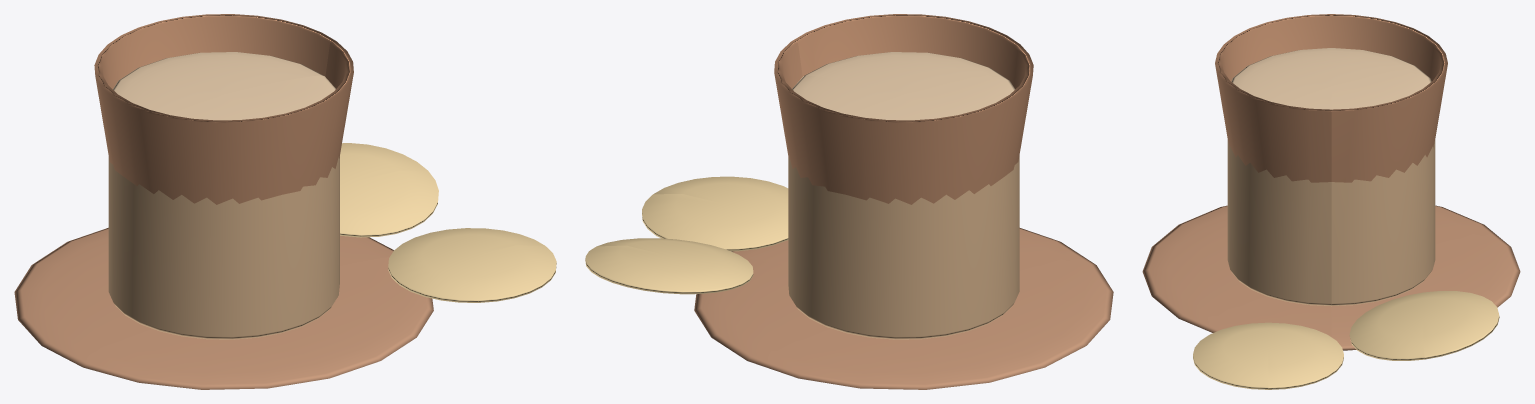
The model's file is masala-chai.glb.
3 views of the same model, side by side, from view 1: azimuth 30°, elevation 25°; view 2: azimuth 150°, elevation 25°; view 3: azimuth 270°, elevation 25° (orthographic). The views are drawn at different scales.
Parts seen in each view (by area): view 1: masala-chai; view 2: masala-chai; view 3: masala-chai.
Part boxes in pixels (left/top/right/bottom): masala-chai: left=14, top=14, right=556, bottom=389; masala-chai: left=585, top=14, right=1113, bottom=389; masala-chai: left=1142, top=14, right=1520, bottom=389.
Bounding box in the file's own units: 0.154 × 0.076 × 0.12.
